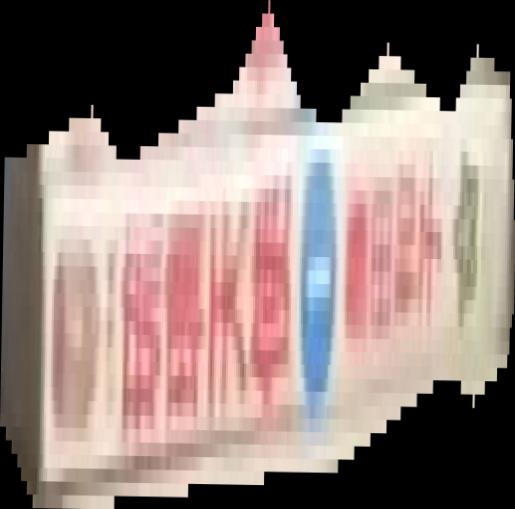flat: (1, 1, 515, 509)
